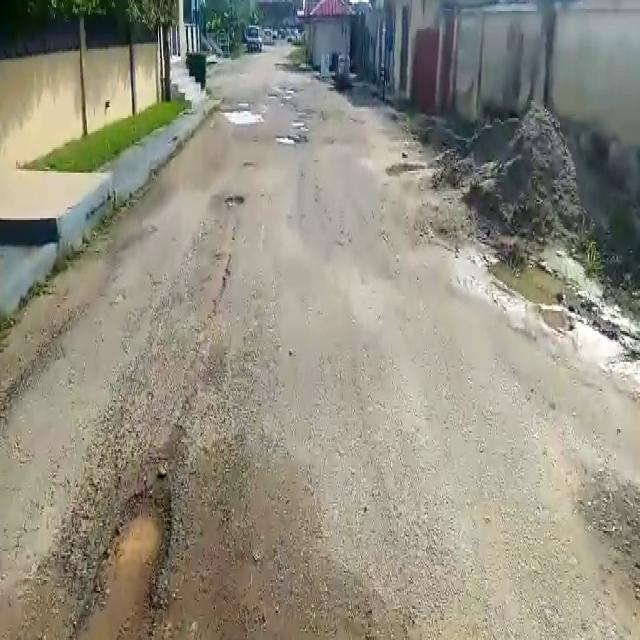pothole: (69, 492, 173, 640), (217, 107, 265, 123), (274, 133, 309, 146), (222, 192, 244, 209)
